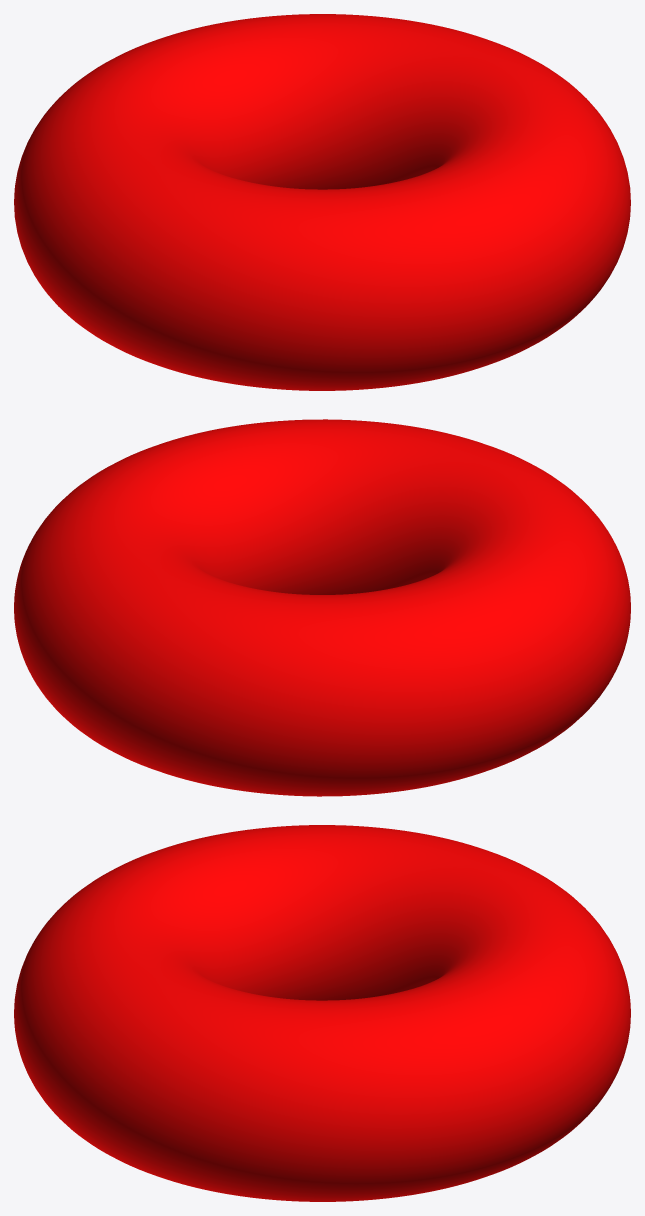
3 views of the same model, one above another, from view 1: azimuth 30°, elevation 25°; view 2: azimuth 150°, elevation 25°; view 3: azimuth 270°, elevation 25° (orthographic).
Visible parts, largest first — view 1: torus; view 2: torus; view 3: torus.
Boxes of the visible parts, box(x1,y1,x2,y2) form: torus: box(14, 14, 630, 390); torus: box(14, 419, 630, 796); torus: box(14, 825, 630, 1201).
Bounding box in the file's own units: 0.0403 × 0.0132 × 0.0403.
